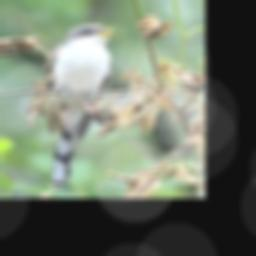Cuckoo: (45, 23, 124, 188)
